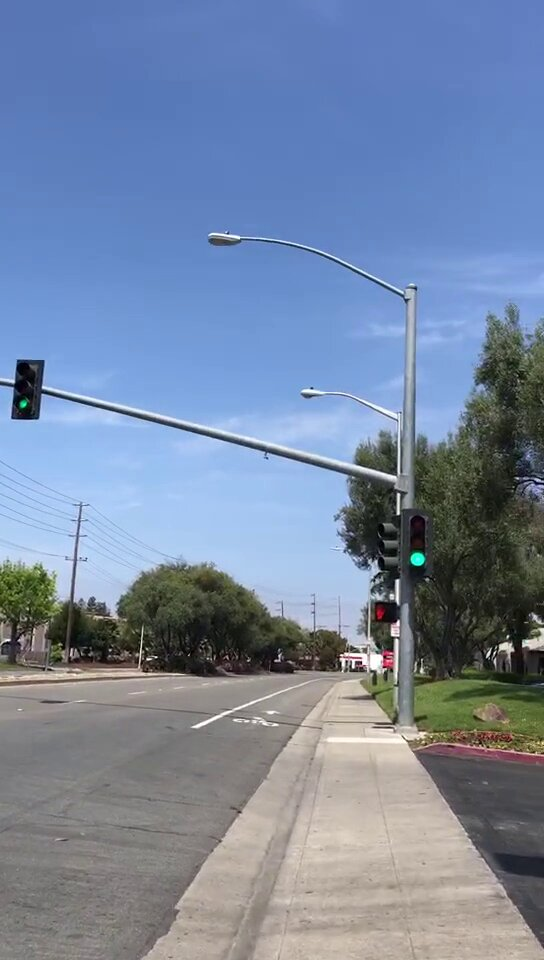green_light: (402, 510, 432, 576), (15, 360, 40, 417)
